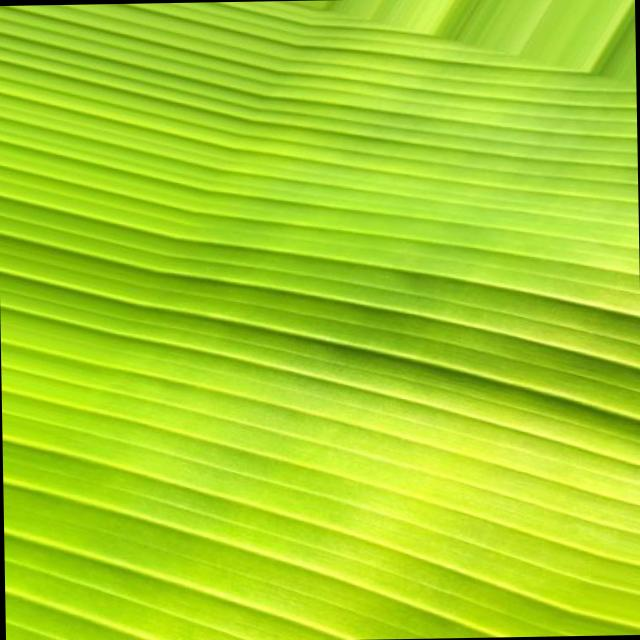Banana_Healthy: (140, 122, 544, 546)
